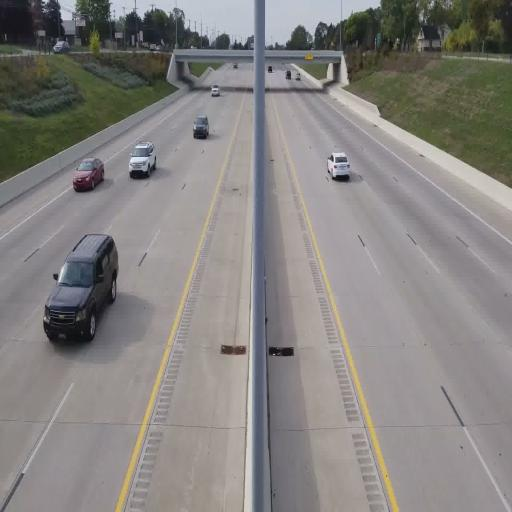Car: (128, 140, 158, 178), (72, 158, 104, 192), (327, 151, 350, 181), (193, 114, 209, 139), (54, 40, 69, 53), (211, 83, 221, 97)
Truck: (42, 232, 119, 342)
